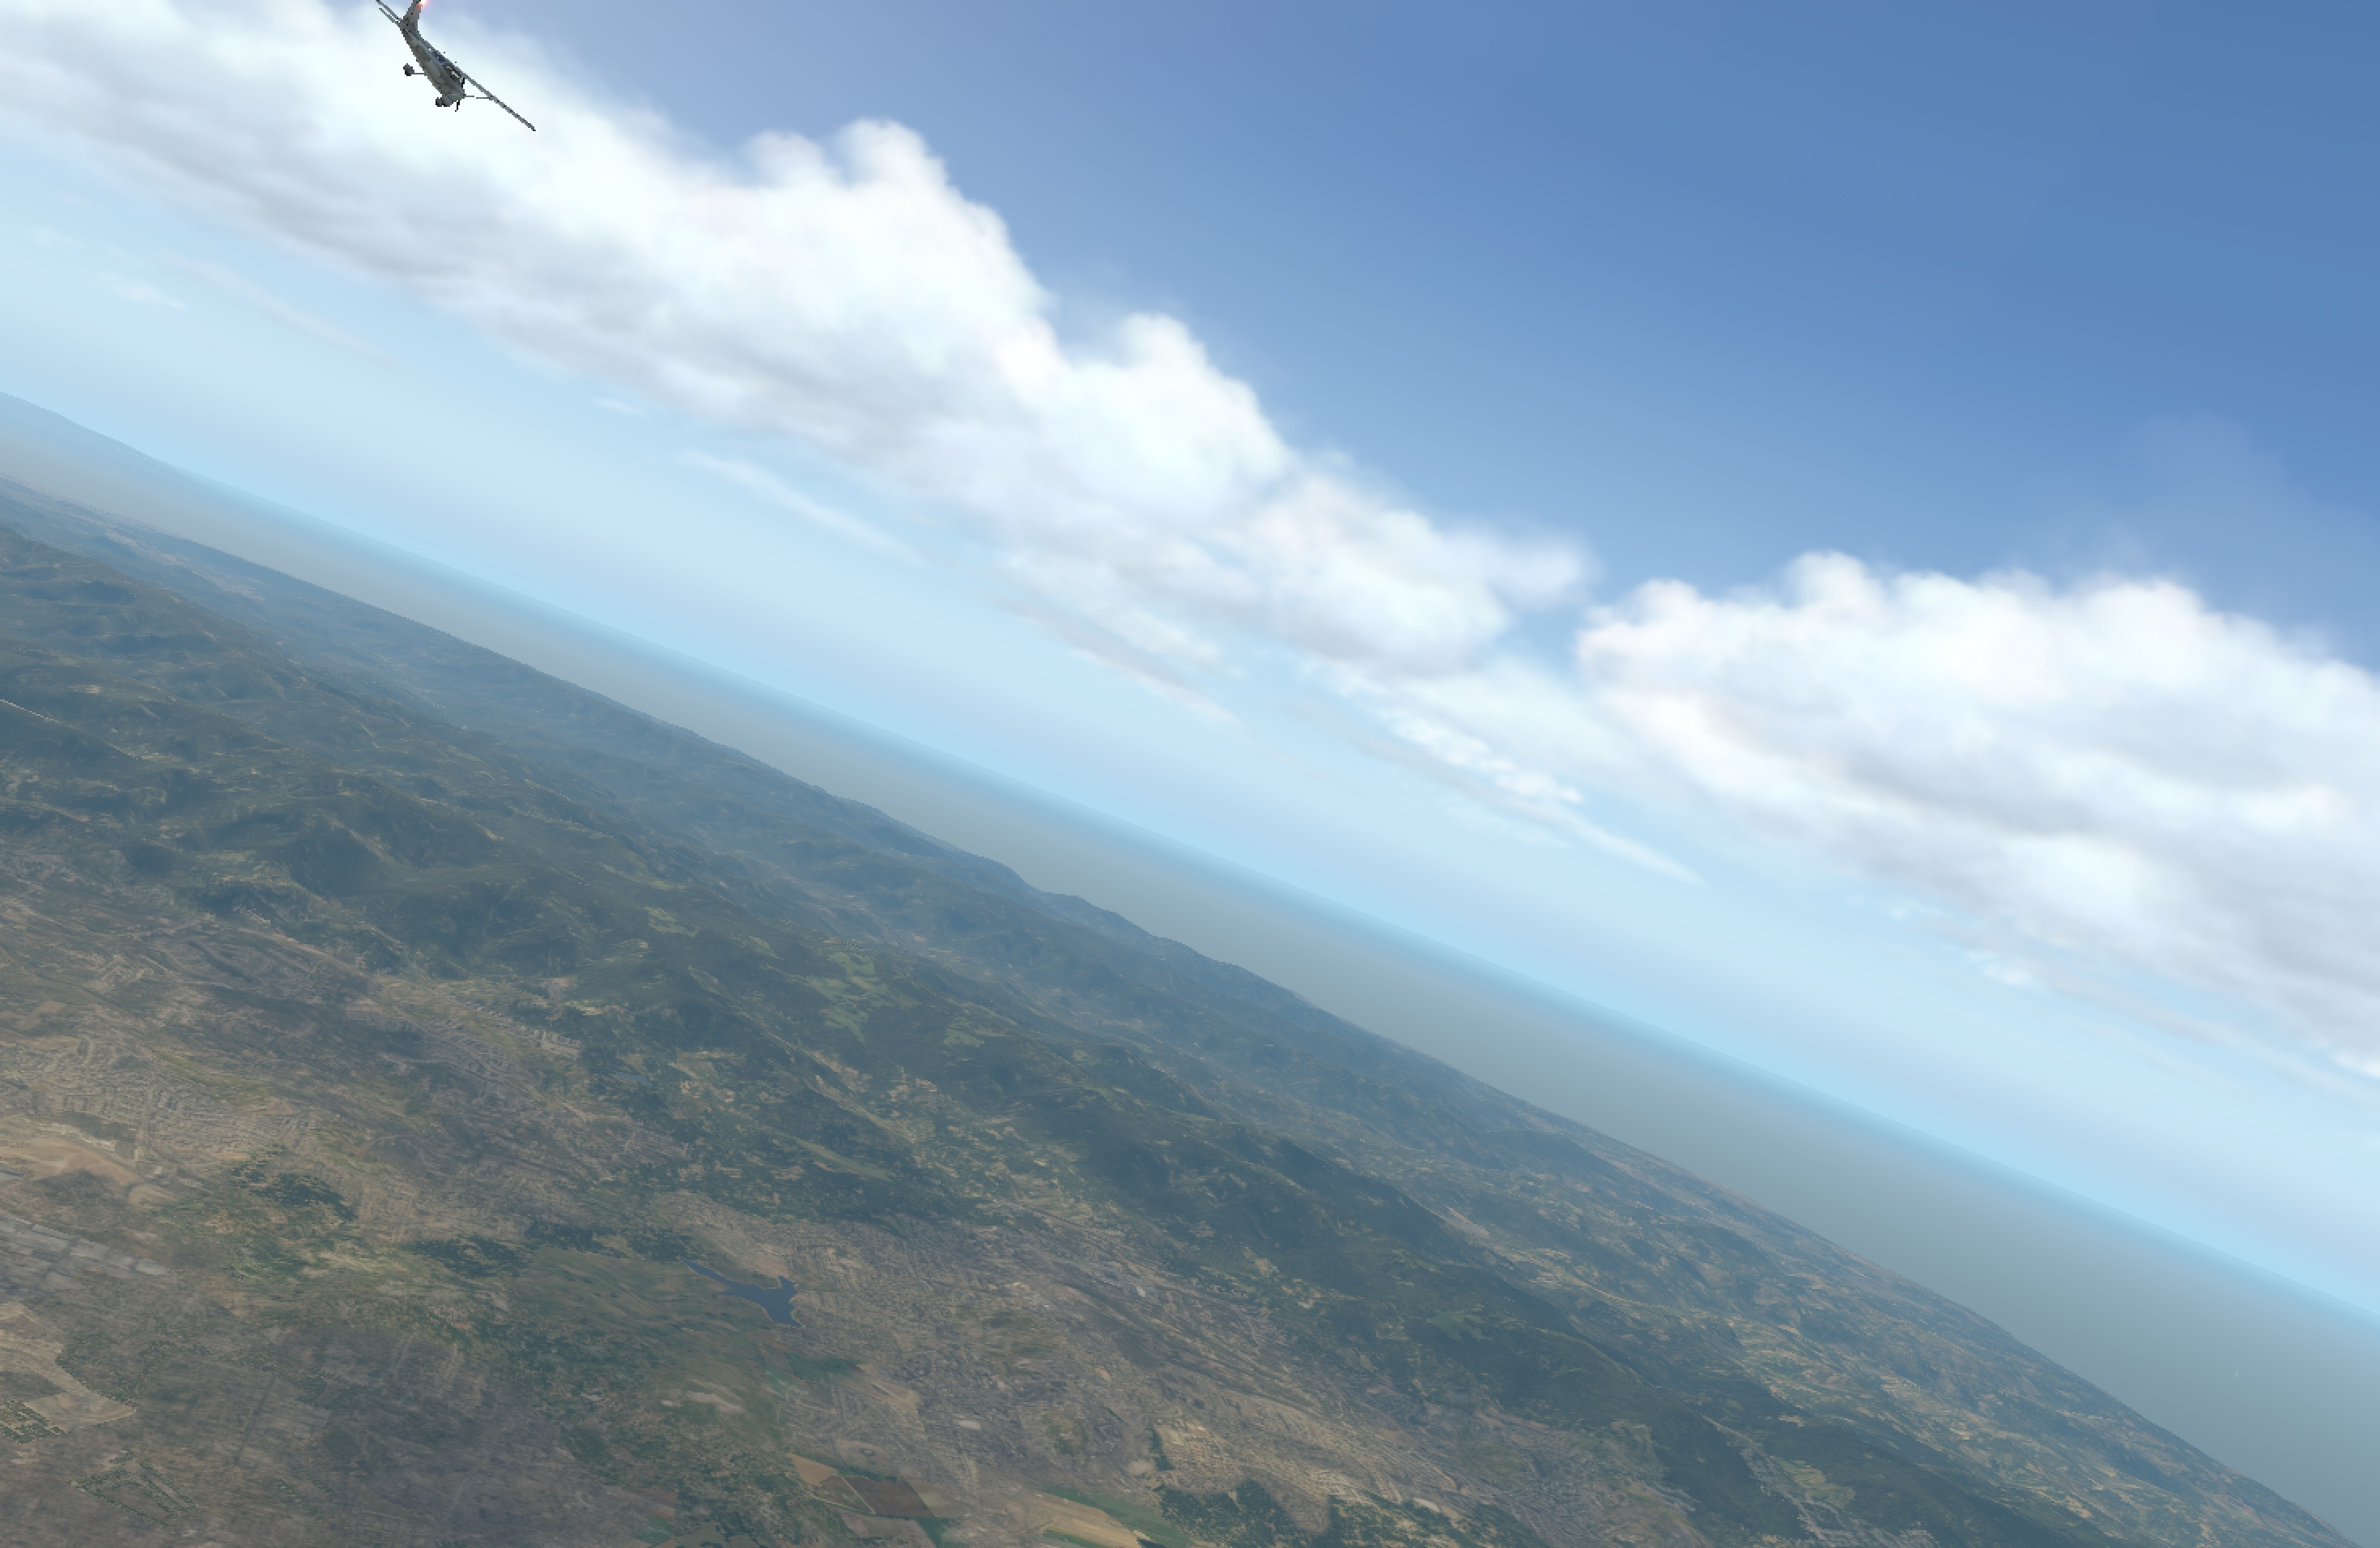aircraft: (373, 47, 515, 101)
